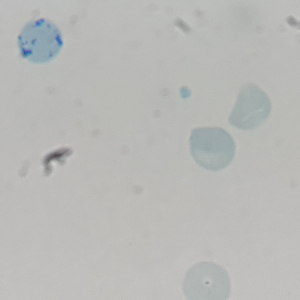aggregate reticulocyte: (16, 17, 64, 64)
erythrocyte: (228, 82, 274, 131), (181, 260, 232, 300)
punctate reticulocyte: (189, 125, 236, 172)
